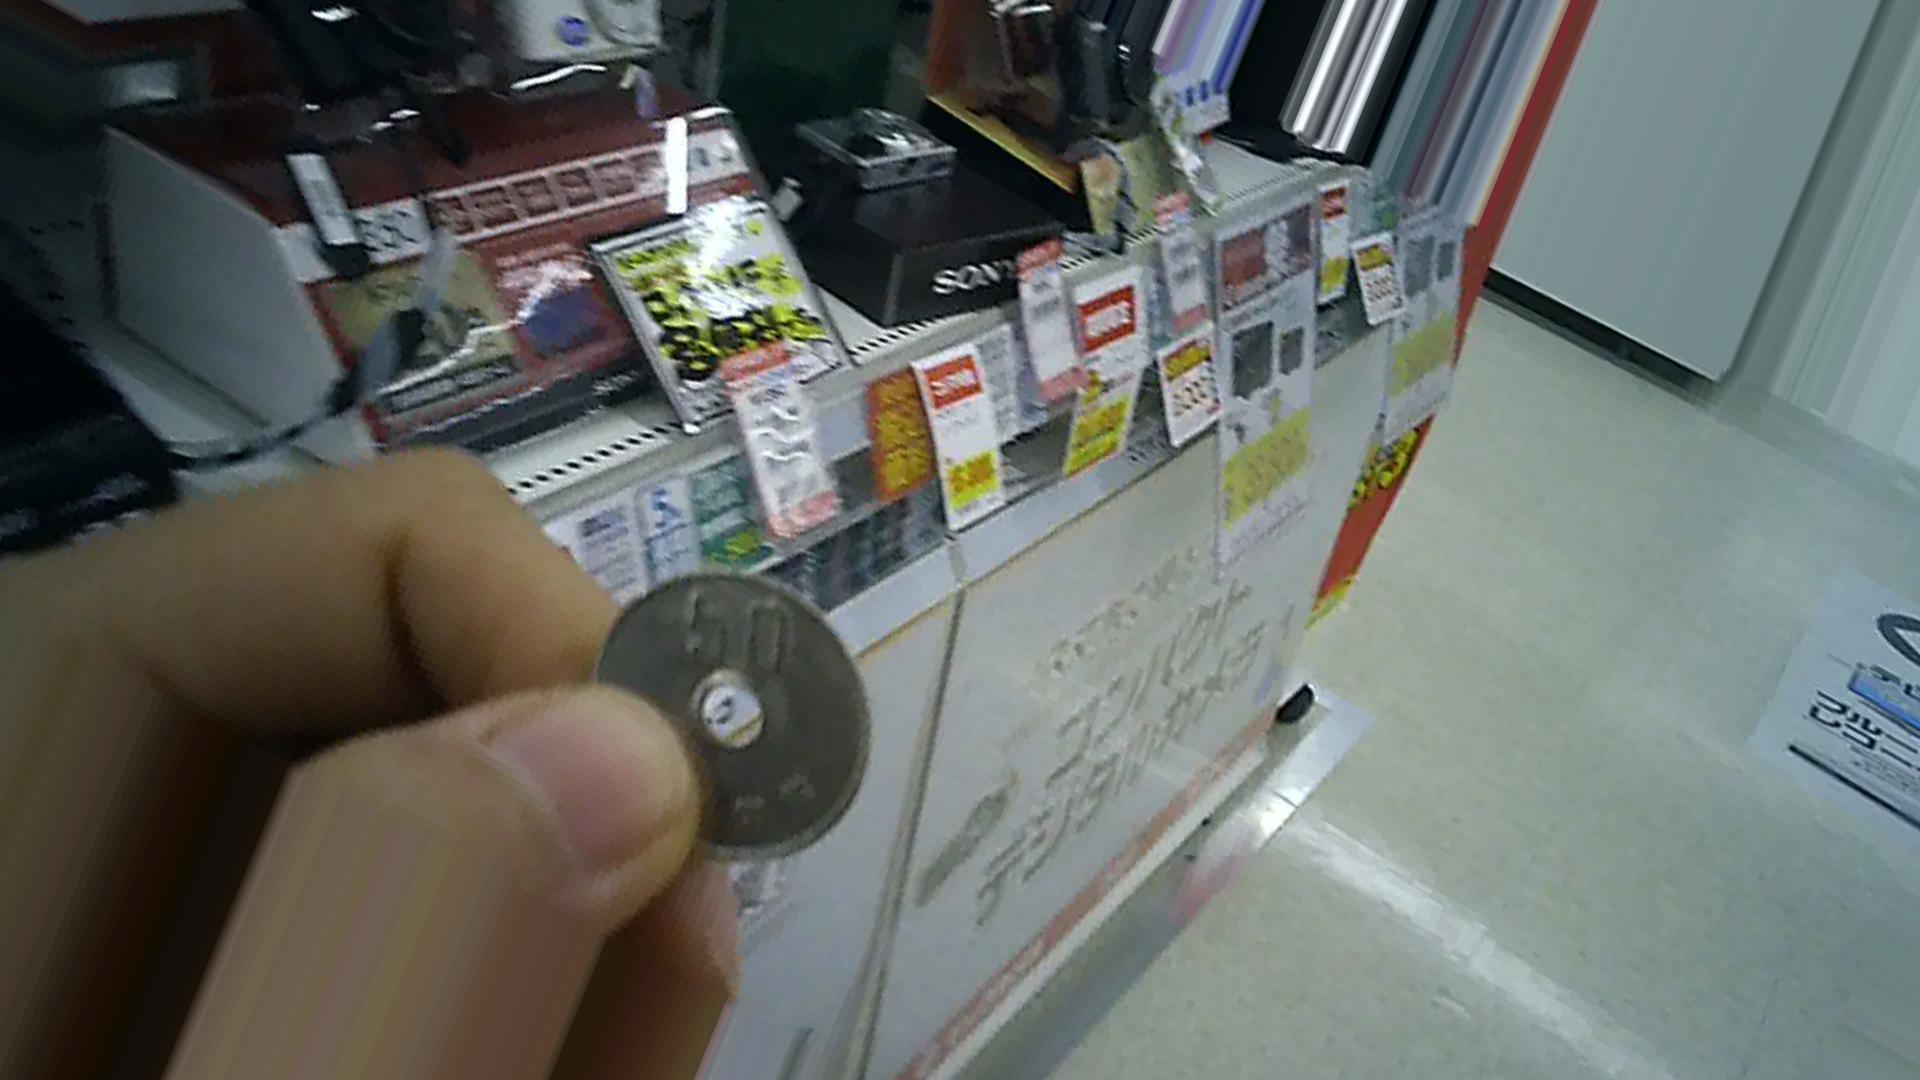50 Yen: (584, 562, 870, 866)
